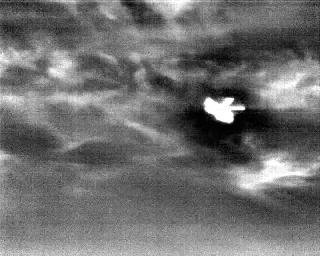HELICOPTER: (201, 90, 249, 128)
